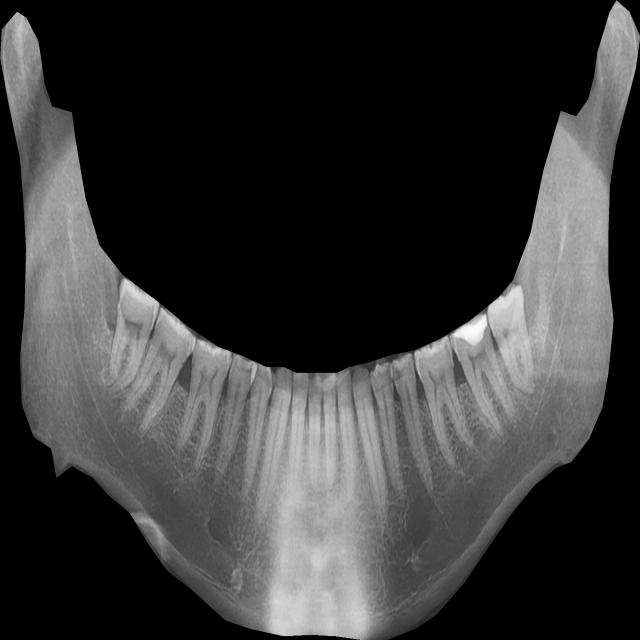mandibula: (0, 0, 640, 640)
